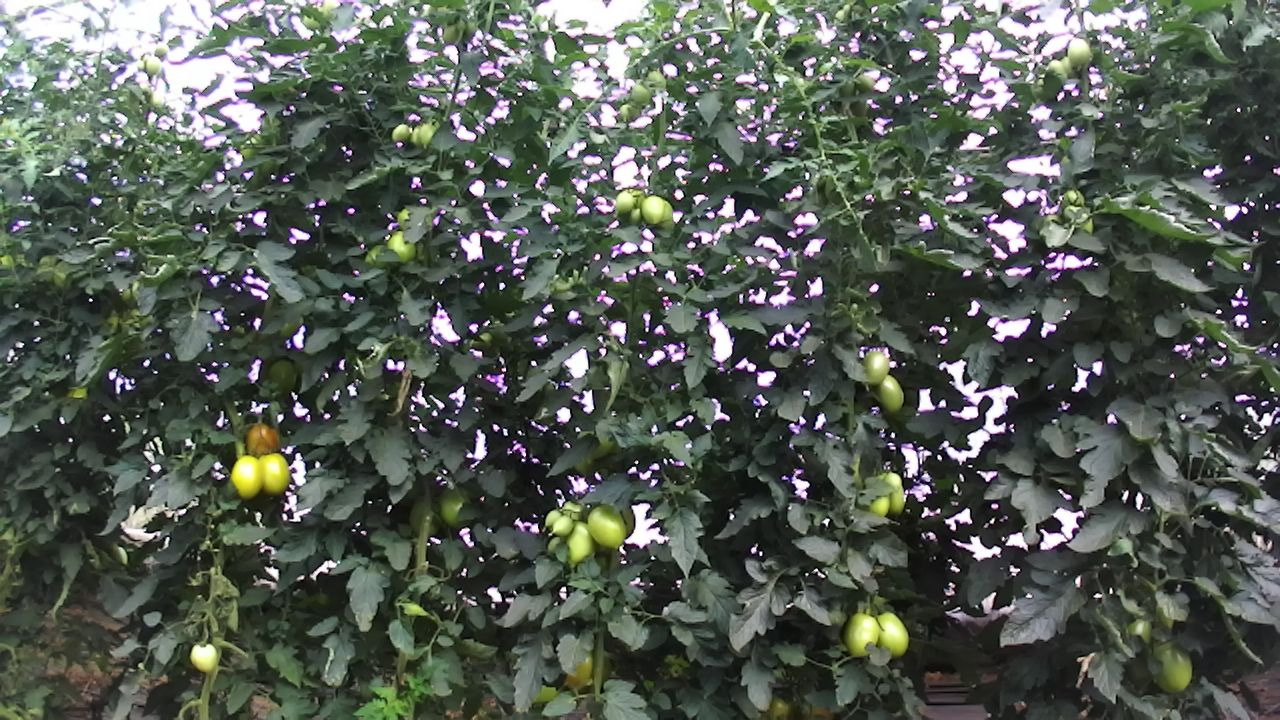tomato: (1146, 635, 1197, 698), (584, 502, 627, 551), (840, 610, 881, 659), (872, 609, 911, 660), (561, 517, 599, 568), (228, 452, 266, 501), (435, 482, 474, 529), (256, 451, 291, 497), (243, 420, 280, 461), (876, 373, 908, 415), (862, 348, 892, 387), (1064, 33, 1092, 69), (189, 641, 219, 674), (639, 193, 666, 226), (549, 513, 576, 538), (888, 481, 906, 518), (613, 189, 635, 217), (541, 505, 564, 529), (389, 121, 412, 145), (883, 467, 903, 492), (416, 123, 436, 146)
